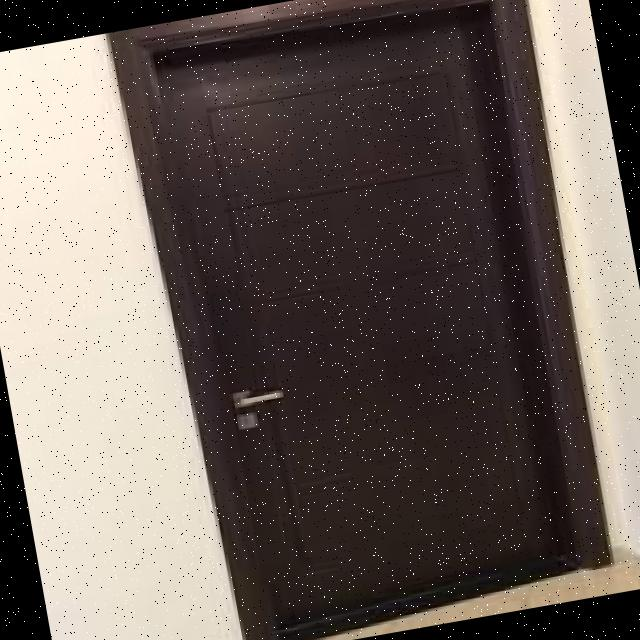Door: (144, 0, 603, 640)
